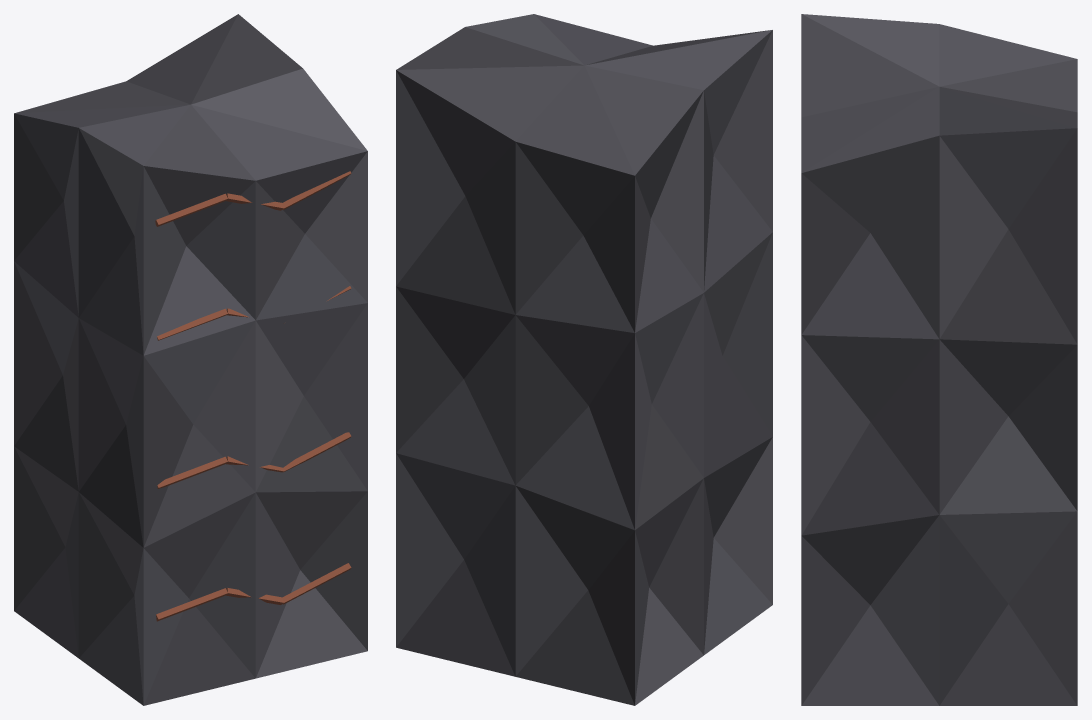
The model's file is iron_wall_c.glb.
The picture shows the model from 3 angles, left to right: view 1: azimuth 30°, elevation 25°; view 2: azimuth 150°, elevation 25°; view 3: azimuth 270°, elevation 25°; orthographic projection. The views are drawn at different scales.
Parts seen in each view (by area): view 1: geometry; view 2: geometry; view 3: geometry.
Part boxes in pixels (x1,y1,x2,y2): geometry: [14, 14, 367, 705]; geometry: [396, 14, 772, 705]; geometry: [801, 14, 1077, 705].
Size of the model in its own units: 1 by 2.31 by 1.
